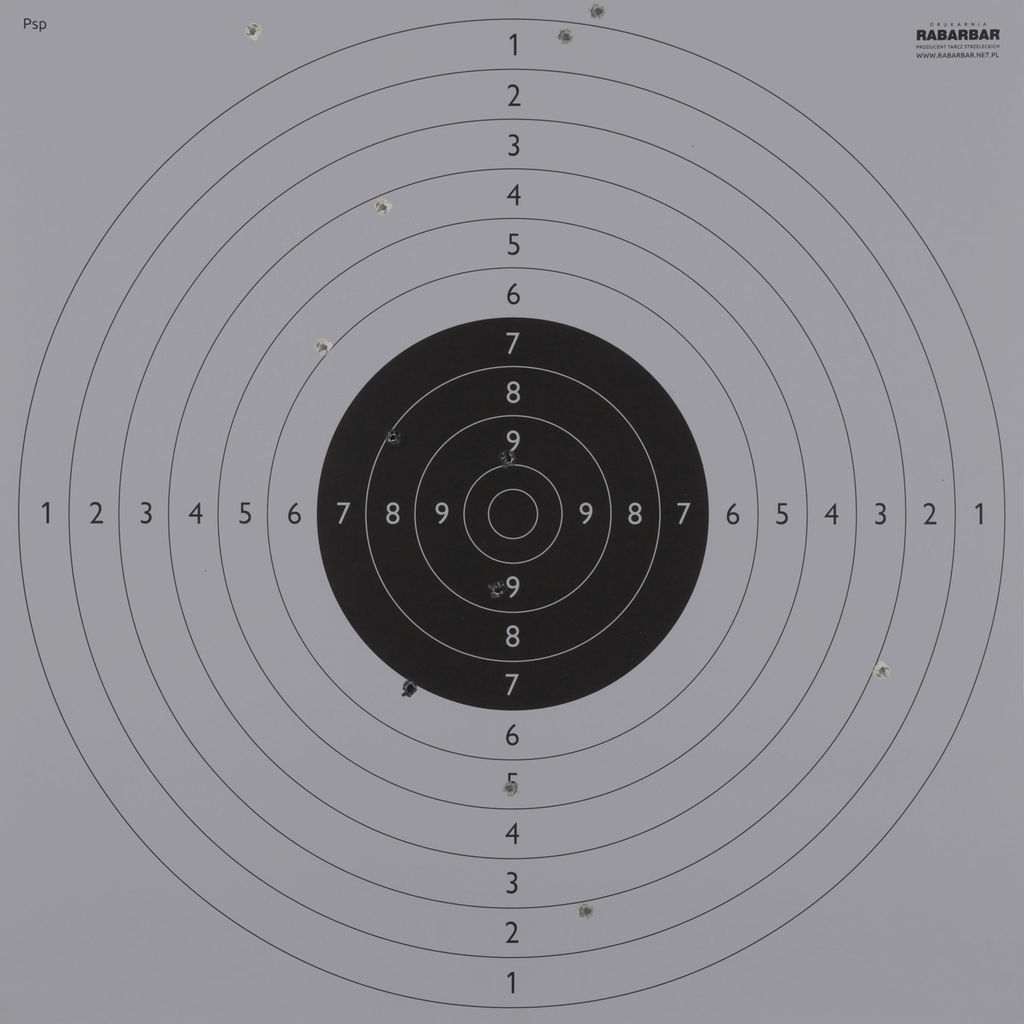0 punktow: (243, 22, 262, 41)
1 punkt: (557, 28, 575, 46)
10 punktow: (499, 450, 518, 468)
2 punkty: (577, 902, 596, 920)
3 punkty: (873, 661, 892, 680)
4 punkty: (374, 198, 392, 217)
5 punktow: (501, 779, 519, 798)
6 punktow: (314, 338, 333, 357)
7 punktow: (401, 679, 419, 698)
8 punktow: (383, 428, 402, 447)
9 punktow: (489, 580, 508, 599)
